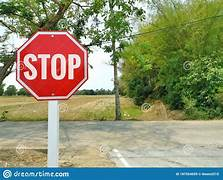stop: (17, 31, 88, 100)
